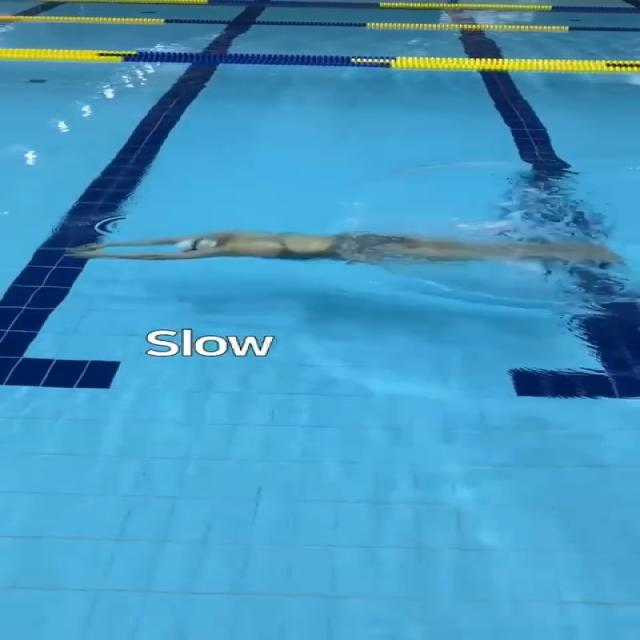Swimming: (60, 228, 627, 272)
